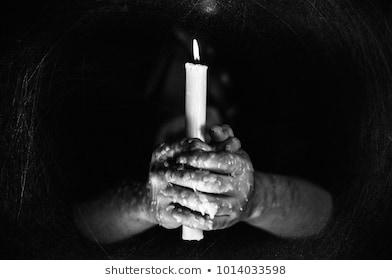fire: (186, 35, 207, 64)
